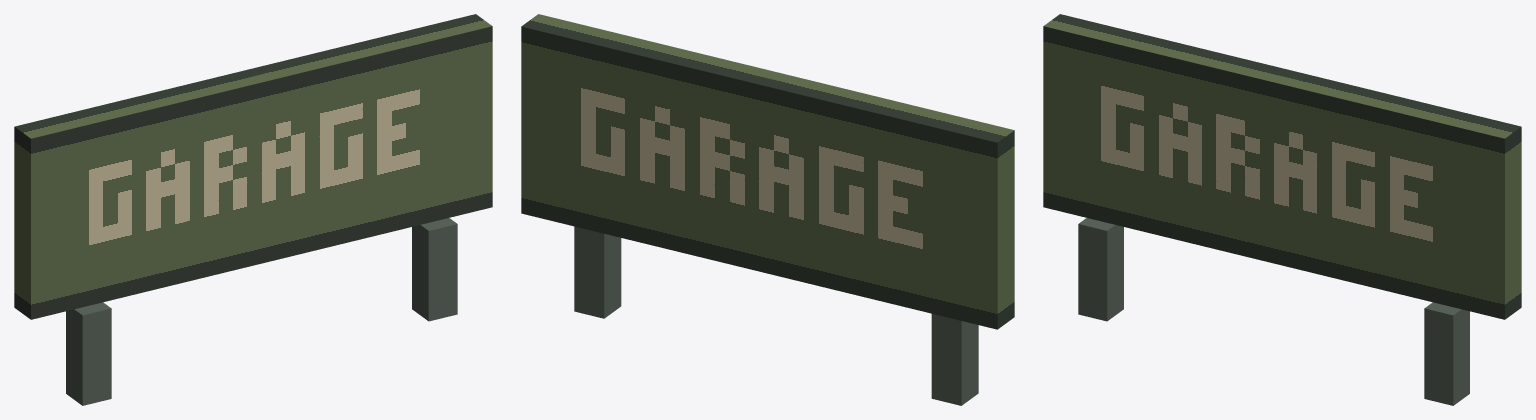
Rendered from sign_garage.gltf.
3 views of the same model, side by side, from view 1: azimuth 30°, elevation 25°; view 2: azimuth 150°, elevation 25°; view 3: azimuth 330°, elevation 25° (orthographic). The views are drawn at different scales.
Parts seen in each view (by area): view 1: signboard, support (×2); view 2: signboard, support (×2); view 3: signboard, support (×2).
Part boxes in pixels (x1,y1,x2,y2): signboard: (14, 14, 492, 319); support (×2): (66, 218, 457, 405); signboard: (521, 14, 1014, 329); support (×2): (574, 226, 978, 405); signboard: (1043, 14, 1521, 319); support (×2): (1078, 218, 1469, 405).
Bounding box in the file's own units: 2 × 1.12 × 0.1875.
2 materials, 2 textured.
